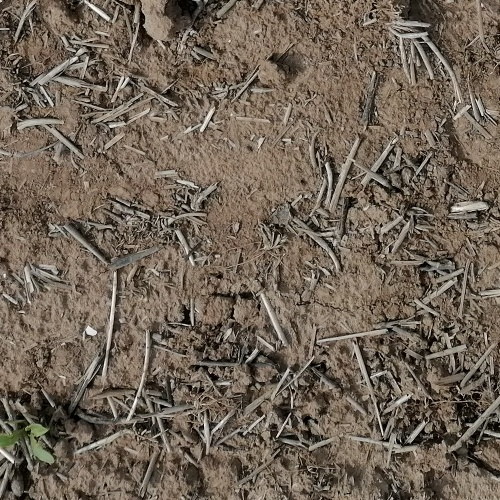beet: (0, 423, 54, 464)
